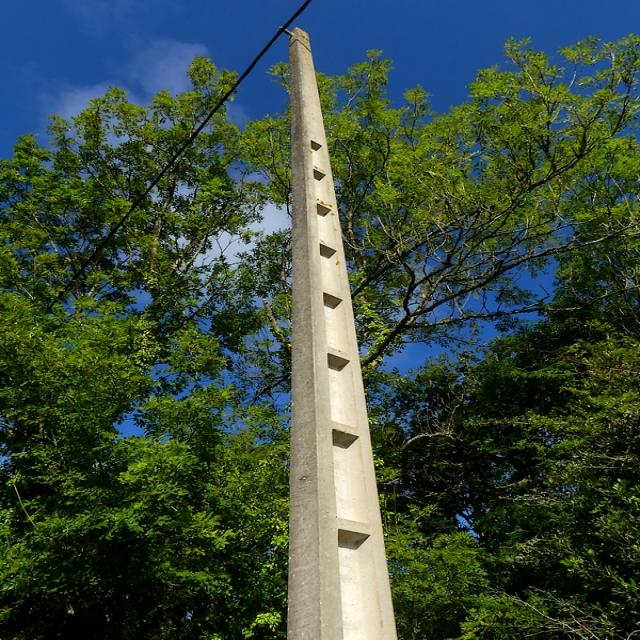Electric pole: (288, 28, 397, 640)
